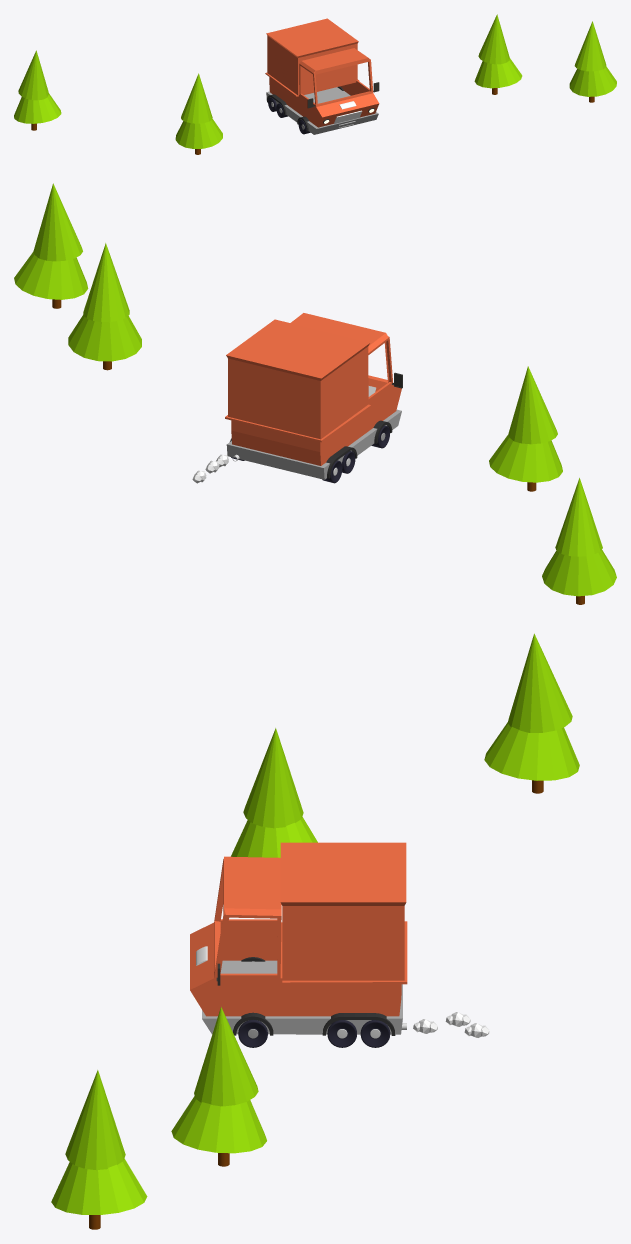
Rendered from blender-truck-groups.glb.
3 views of the same model, one above another, from view 1: azimuth 30°, elevation 25°; view 2: azimuth 150°, elevation 25°; view 3: azimuth 270°, elevation 25° (orthographic). The views are drawn at different scales.
Parts seen in each view (by area): view 1: CarBody, CarBumper, t1-1, t4-2, t3-2, t2-1, t1-2, t4-1, t3-1, t2-2; view 2: CarBody, t2-1, t3-2, t1-1, t4-2, t1-2, t4-1, t2-2, t3-1, CarBumper; view 3: CarBody, t2-1, t3-2, t4-2, t3-1, t2-2, t1-2, t4-1, CarBumper, t1-1.
Part boxes in pixels (x1,y1,x2,y2): CarBody: [265, 18, 379, 127]; CarBumper: [266, 87, 378, 134]; t1-1: [175, 118, 222, 148]; t4-2: [569, 66, 616, 96]; t3-2: [474, 58, 522, 88]; t2-1: [14, 93, 61, 123]; t1-2: [181, 73, 212, 123]; t4-1: [574, 21, 606, 71]; t3-1: [478, 14, 509, 64]; t2-2: [18, 50, 48, 100]; CarBody: [225, 313, 401, 465]; t2-1: [542, 550, 616, 596]; t3-2: [68, 315, 141, 361]; t1-1: [489, 434, 562, 482]; t4-2: [14, 251, 88, 299]; t1-2: [508, 366, 557, 444]; t4-1: [33, 183, 82, 261]; t2-2: [555, 478, 602, 556]; t3-1: [83, 243, 129, 321]; CarBumper: [226, 409, 401, 479]; CarBody: [190, 842, 407, 1016]; t2-1: [484, 722, 579, 780]; t3-2: [171, 1096, 266, 1153]; t4-2: [51, 1158, 147, 1214]; t3-1: [194, 1007, 258, 1106]; t2-2: [507, 633, 572, 732]; t1-2: [243, 728, 303, 828]; t4-1: [65, 1070, 125, 1170]; CarBumper: [202, 960, 402, 1034]; t1-1: [231, 817, 317, 857].
Bounding box in the file's own units: 34.23 × 5.39 × 16.03.
